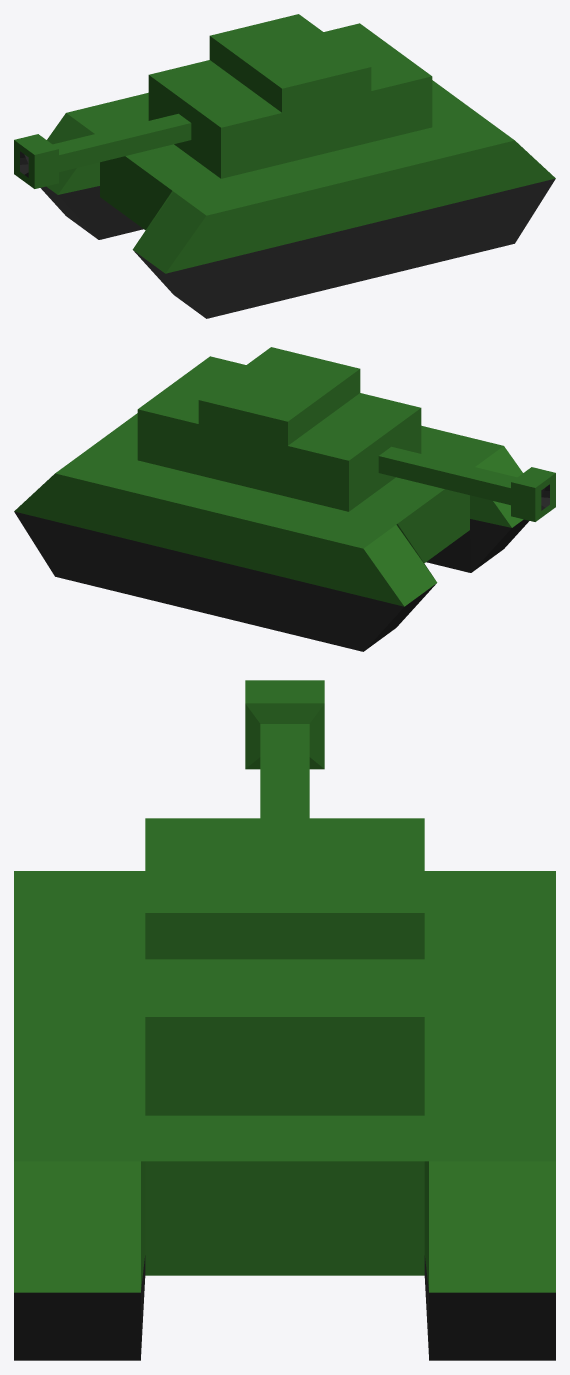
The model's file is Tank.glb.
The picture shows the model from 3 angles, top to bottom: view 1: azimuth 30°, elevation 25°; view 2: azimuth 150°, elevation 25°; view 3: azimuth 270°, elevation 25°; orthographic projection. The views are drawn at different scales.
Visible parts, largest first — view 1: Cube; view 2: Cube; view 3: Cube.
Boxes of the visible parts, x1,y1,x2,y2 form: Cube: [14, 14, 555, 318]; Cube: [14, 347, 555, 651]; Cube: [14, 680, 555, 1360].
Size of the model in its own units: 2.45 by 0.9072 by 1.29.
